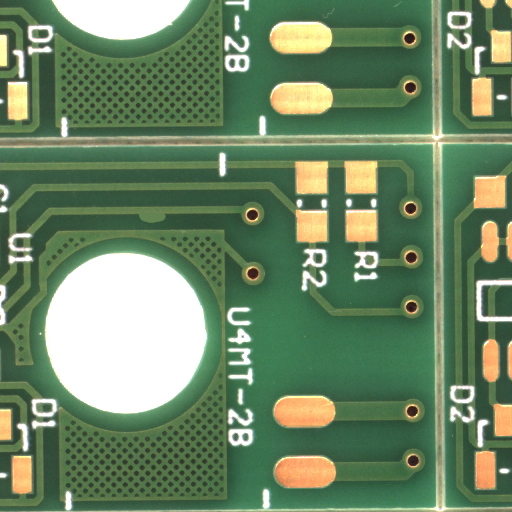Spur: (153, 217, 188, 229)
